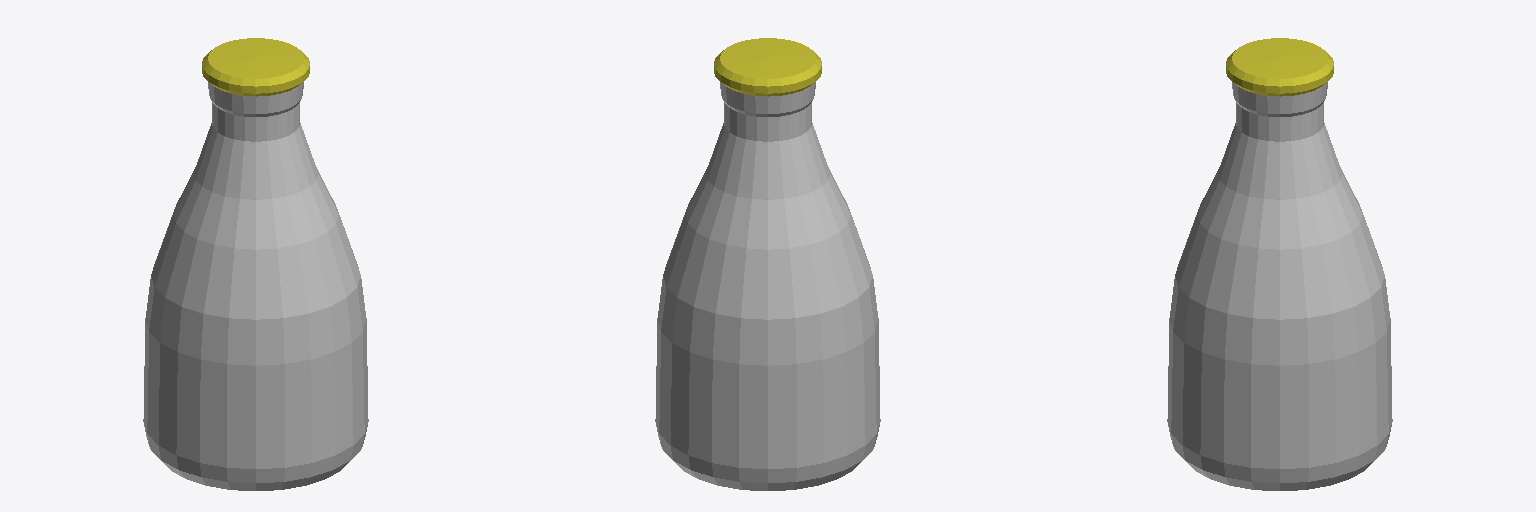
The model's file is milk_bottle.obj.
The picture shows the model from 3 angles: view 1: azimuth 30°, elevation 25°; view 2: azimuth 150°, elevation 25°; view 3: azimuth 270°, elevation 25°; orthographic projection.
Visible parts, largest first — view 1: Cube, Cube.002; view 2: Cube, Cube.002; view 3: Cube, Cube.002.
Part boxes in pixels (x1,y1,x2,y2): Cube: (143,82,368,490); Cube.002: (202,38,309,96); Cube: (655,82,880,490); Cube.002: (714,38,821,96); Cube: (1167,82,1392,490); Cube.002: (1226,38,1333,96).
Size of the model in its own units: 0.1508 by 0.2938 by 0.1508.